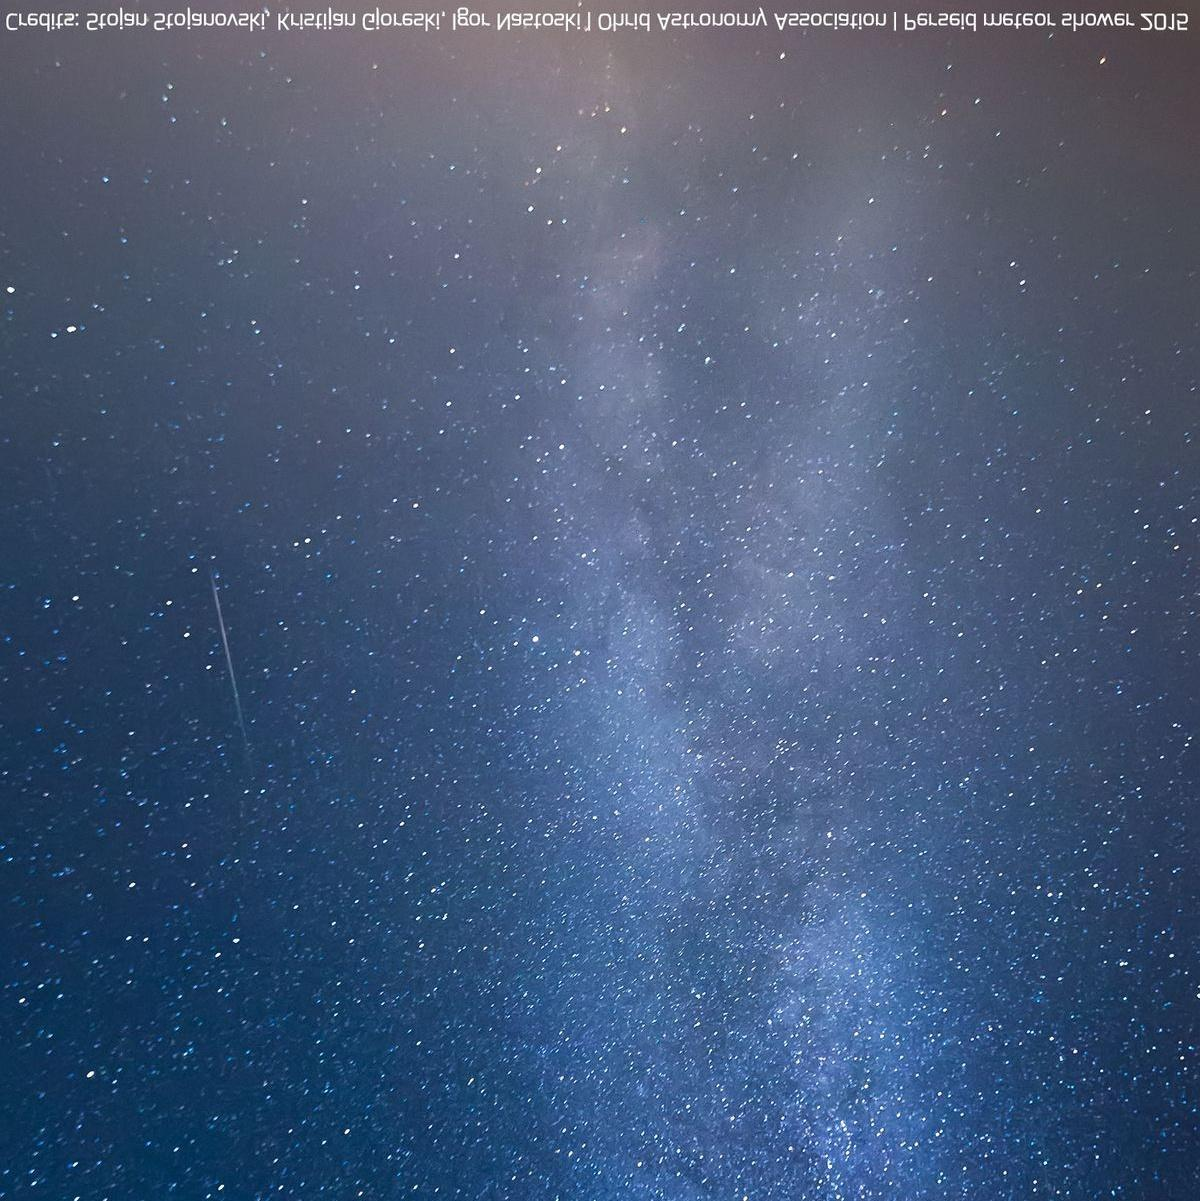meteorite: (195, 552, 259, 748)
